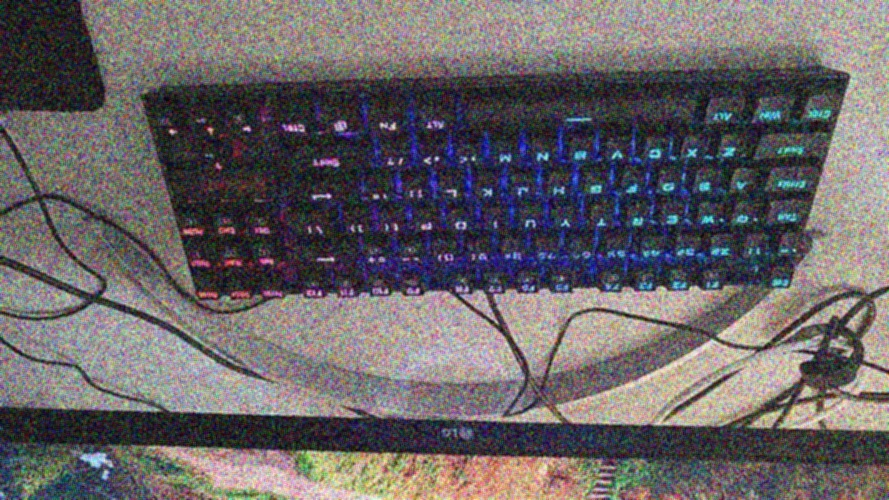-: (735, 180, 747, 190)
0: (437, 253, 454, 261)
0-1-2-3-4-5-6-7-8-9-A-B-C-D-E-F: (307, 224, 325, 235), (459, 154, 478, 164), (423, 155, 441, 165), (387, 157, 406, 165), (409, 189, 423, 199), (780, 246, 797, 254), (351, 224, 366, 233), (373, 191, 389, 199), (368, 256, 386, 263), (403, 255, 420, 262), (385, 223, 398, 232)
1: (747, 247, 762, 256)
2: (712, 247, 730, 257)
3: (677, 247, 696, 256)
4: (643, 249, 659, 258)
5: (607, 249, 626, 258)
6: (574, 251, 592, 260)
7: (536, 251, 556, 260)
8: (504, 251, 520, 260)
9: (471, 251, 488, 261)
A: (425, 119, 446, 130), (712, 111, 733, 121)
ALT: (573, 150, 588, 161)
B: (315, 256, 337, 264)
BACKSPACE: (649, 148, 663, 159)
C: (776, 179, 805, 189)
CAPSLK: (279, 123, 306, 134), (809, 109, 831, 118)
CTRL: (663, 182, 675, 191)
D: (252, 225, 272, 235)
DEL: (203, 125, 217, 136)
DOWN: (666, 214, 679, 225)
E: (219, 228, 236, 235)
END: (309, 191, 335, 203)
ENTER: (771, 277, 789, 287)
ESC: (626, 184, 639, 193)
F: (706, 279, 720, 289)
F1: (371, 285, 390, 295)
F10: (338, 287, 355, 296)
F11: (305, 288, 323, 297)
F12: (672, 280, 687, 290)
F2: (637, 281, 652, 290)
F3: (604, 281, 620, 291)
F4: (554, 282, 569, 293)
F5: (520, 282, 536, 293)
F6: (488, 284, 503, 293)
F7: (456, 284, 471, 294)
F8: (406, 285, 421, 294)
F9: (378, 121, 398, 132)
FN: (589, 184, 602, 193)
G: (553, 185, 565, 195)
H: (222, 260, 244, 267)
HOME: (491, 219, 500, 230)
I: (257, 258, 276, 266)
INS: (517, 187, 530, 196)
J: (480, 187, 494, 197)
K: (144, 76, 849, 300)
KEYBOARD: (445, 188, 459, 198)
L: (239, 125, 252, 135)
LEFT: (498, 153, 513, 162)
M: (333, 119, 349, 131)
MENU: (536, 151, 550, 161)
N: (455, 221, 469, 230)
O: (421, 222, 434, 230)
P: (196, 290, 218, 299)
PAUSE: (181, 226, 204, 236)
PGDN: (188, 258, 211, 268)
PGUP: (263, 288, 284, 298)
PRTSC: (737, 214, 750, 224)
Q: (632, 217, 644, 226)
R: (168, 127, 181, 137)
RIGHT: (698, 182, 711, 192)
S: (232, 291, 252, 299)
SCRLK: (311, 156, 340, 167), (776, 145, 804, 155)
SHIFT: (465, 97, 695, 129)
SPACE: (595, 218, 609, 227)
T: (775, 211, 799, 221)
TAB: (524, 219, 538, 228)
U: (213, 161, 225, 172)
UP: (610, 150, 625, 159)
V: (701, 214, 717, 225)
W: (758, 110, 782, 120)
WIN: (687, 148, 698, 156)
X: (559, 218, 572, 227)
Y: (723, 147, 735, 157)
